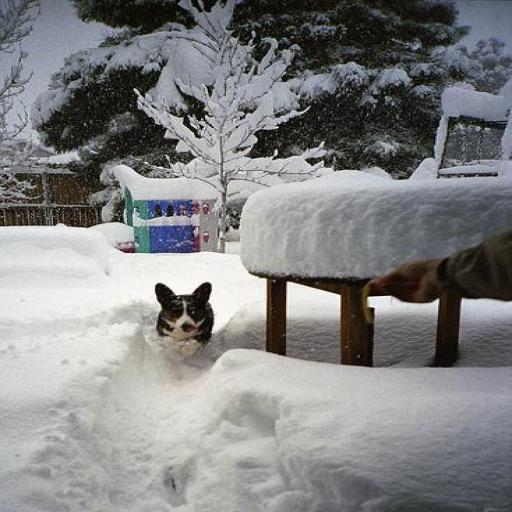dog_face: (147, 277, 223, 339)
